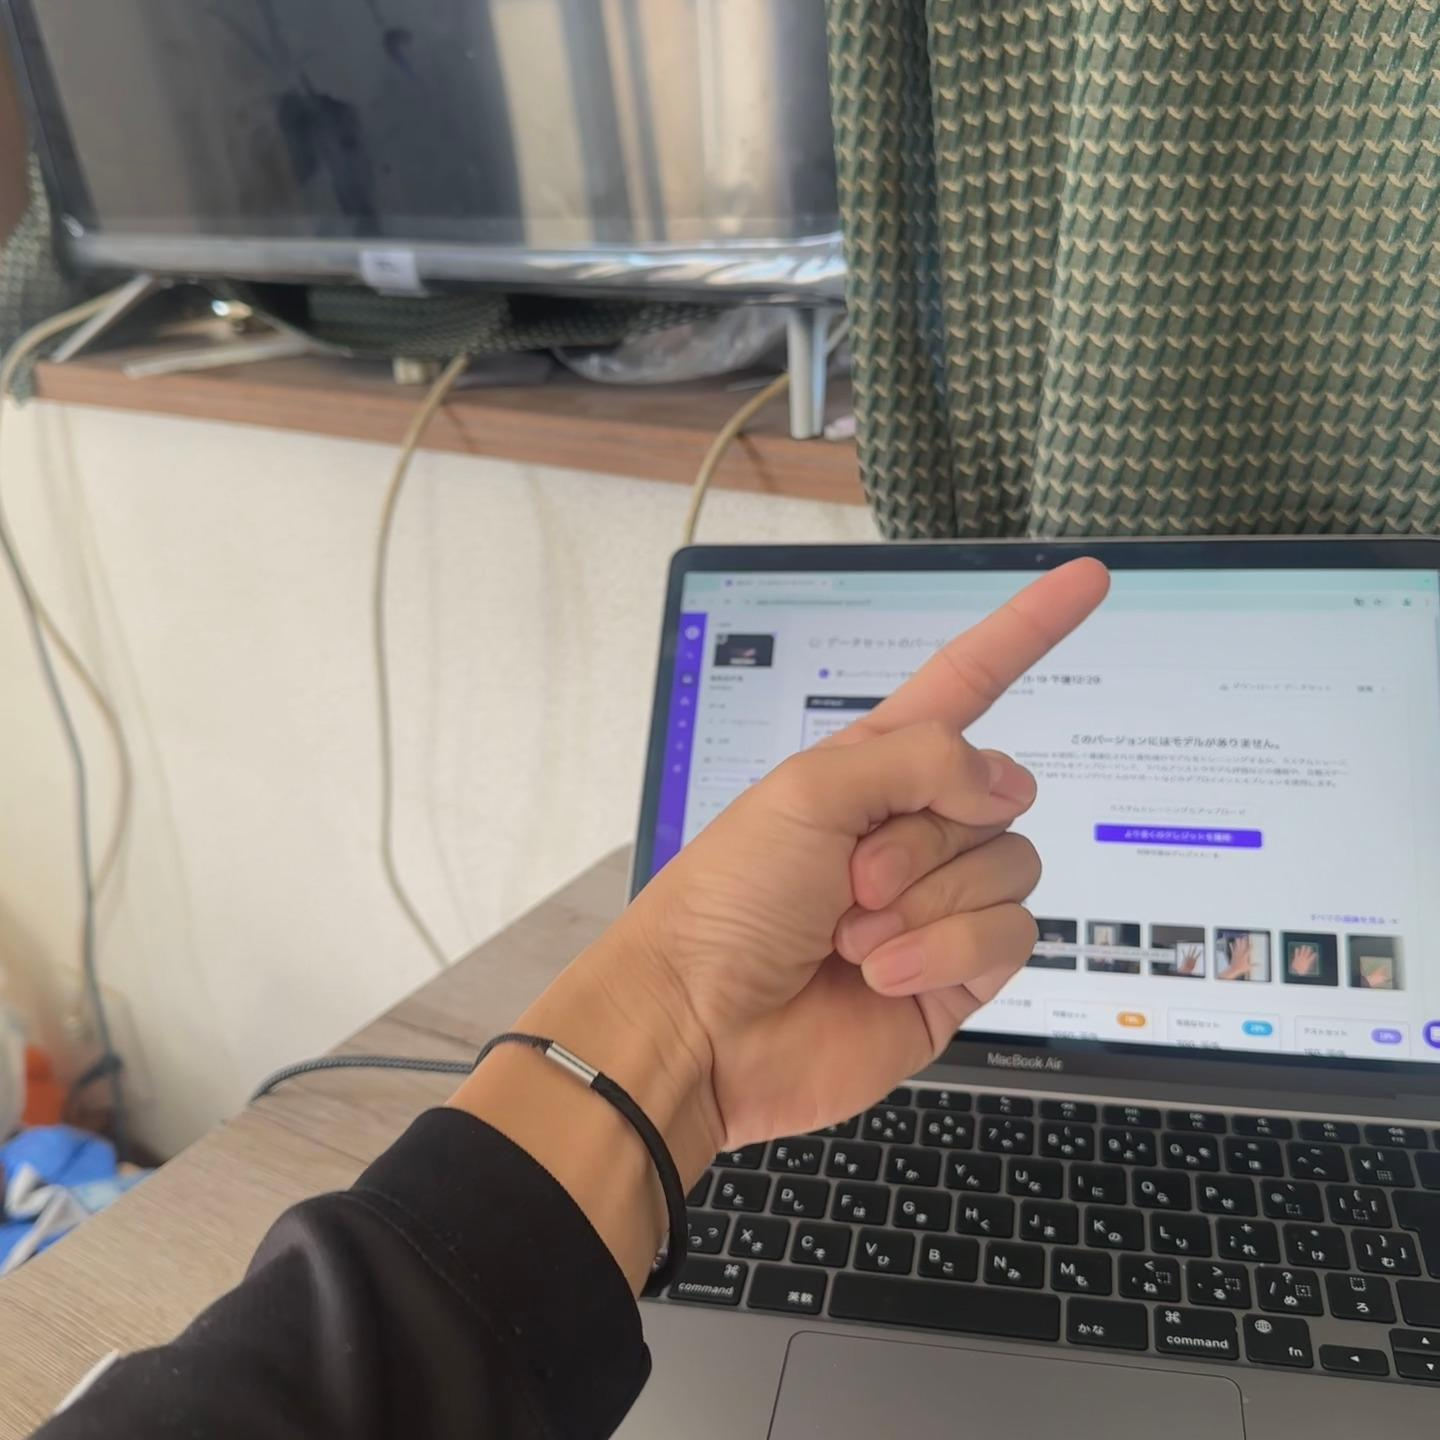without_gloves: (608, 292, 1200, 1189)
